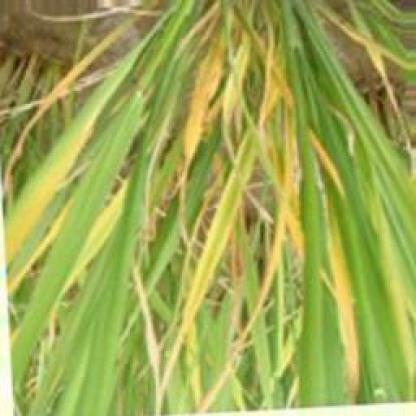Tungro: (3, 69, 171, 263), (217, 133, 308, 414), (157, 157, 247, 381), (160, 5, 271, 175), (52, 177, 130, 307), (319, 225, 370, 404), (307, 126, 354, 191)
